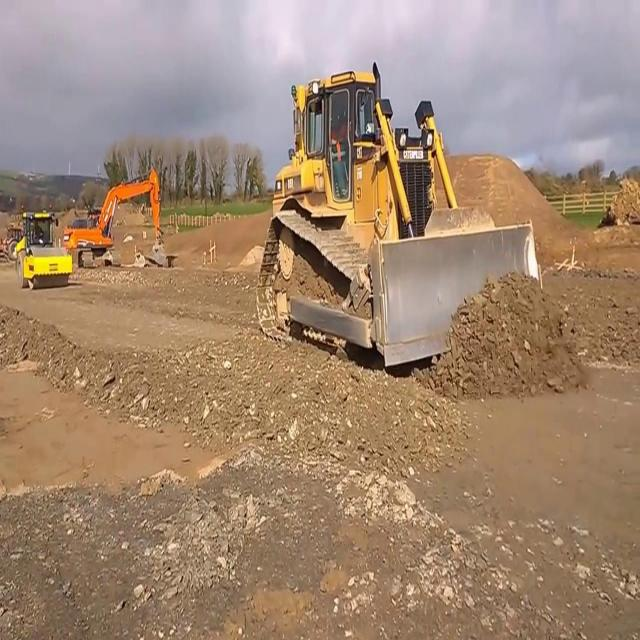Bulldozer: (254, 55, 546, 368)
Excavator: (62, 168, 162, 264)
Roller: (16, 209, 73, 288)
